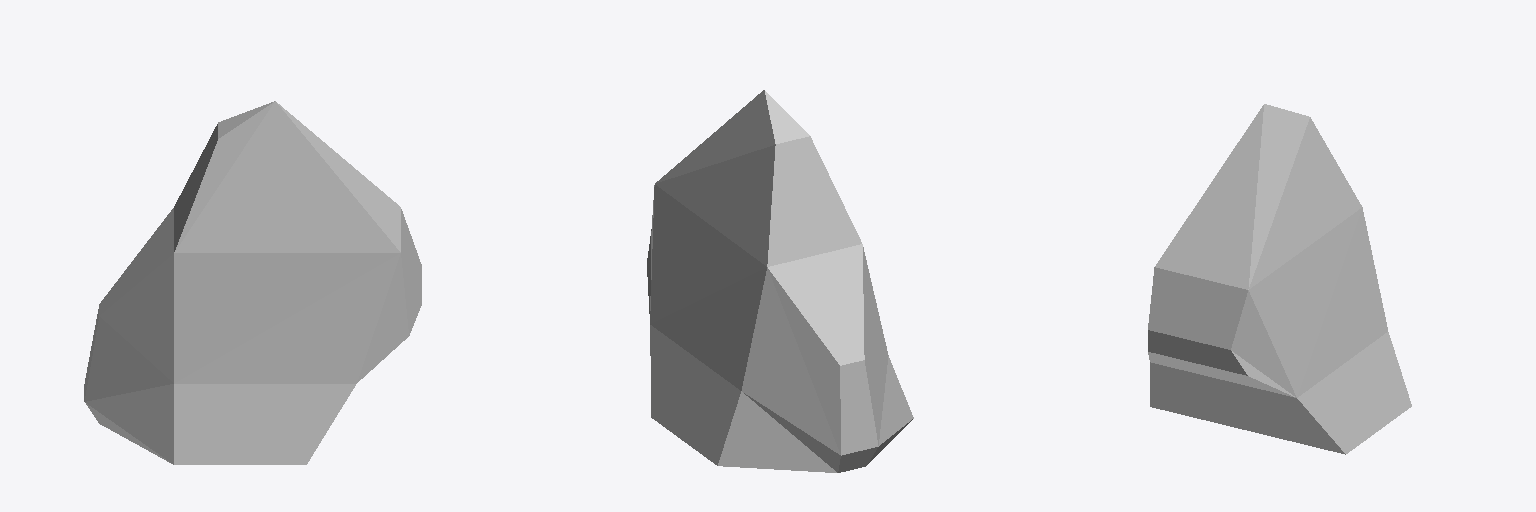
The model's file is mLv1Rock02.obj.
The picture shows the model from 3 angles: view 1: azimuth 30°, elevation 25°; view 2: azimuth 150°, elevation 25°; view 3: azimuth 270°, elevation 25°; orthographic projection.
Visible parts, largest first — view 1: mStoneBolder2; view 2: mStoneBolder2; view 3: mStoneBolder2.
Part boxes in pixels (x1,y1,x2,y2): mStoneBolder2: (84,101,421,464); mStoneBolder2: (647,90,913,472); mStoneBolder2: (1148,104,1411,454).
Size of the model in its own units: 9.87 by 10.56 by 8.01.